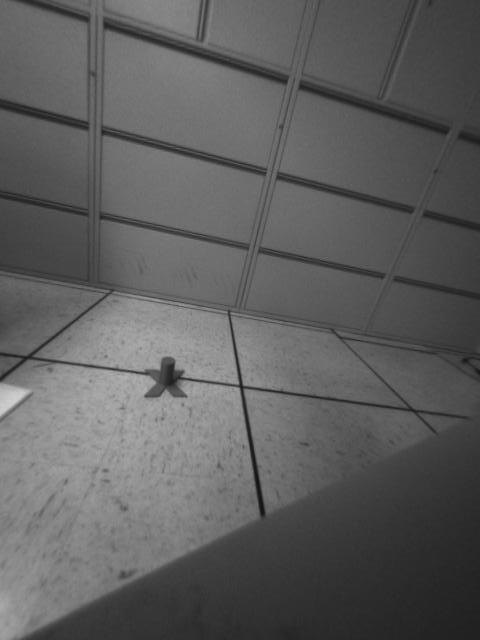X: (144, 353, 187, 398)
